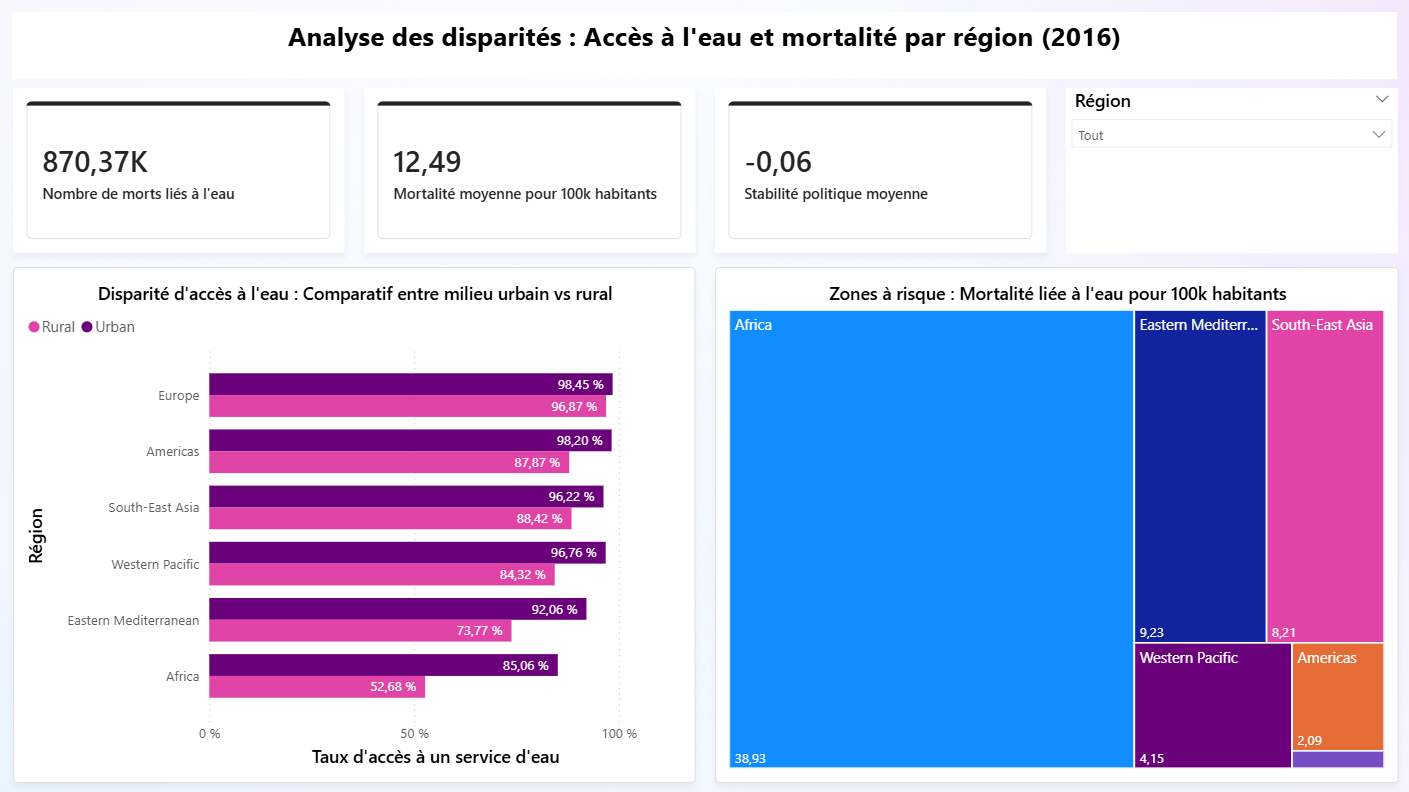

The dashboard page shown, as its layout file describes it:
{"tool":"powerbi","page":{"name":"Vue Régionale","canvas":[1280,720],"ordinal":1},"visuals":[{"type":"slicer","fields":{"Values":["DIM_Geography.REGION"]},"box":[967.1,80.9,301,149.9],"z":0},{"type":"clusteredBarChart","title":"Disparité d''accès à l''eau : Comparatif entre milieu urbain vs rural","fields":{"Category":["DIM_Geography.REGION"],"Y":["Avg(BasicAndSafelyManagedDrinkingWaterServices.Population using at least basic drinking-water services (%))"],"Series":["DIM_Granularity.Granularity"]},"box":[13.1,242.7,618.6,467.5],"z":1},{"type":"treemap","title":"Zones à risque : Mortalité liée à l''eau pour 100k habitants","fields":{"Values":["Avg(MortalityRateAttributedToWater.Mortality rate attributed to exposure to unsafe WASH services)"],"Group":["DIM_Geography.REGION"]},"box":[649.5,242.7,619.8,467.5],"z":2},{"type":"textbox","box":[11.9,11.9,1256.2,60.7],"z":3},{"type":"cardVisual","fields":{"Data":["Sum(MortalityRateAttributedToWater.WASH deaths)"]},"box":[13.1,80.9,301,149.9],"z":4},{"type":"cardVisual","fields":{"Data":["Avg(PoliticalStability.Political_Stability)"]},"box":[649.5,80.9,301,149.9],"z":5},{"type":"cardVisual","fields":{"Data":["Avg(MortalityRateAttributedToWater.Mortality rate attributed to exposure to unsafe WASH services)"]},"box":[330.7,80.9,301,149.9],"z":6}]}

Visuals, with their boxes in screenshot pixels (x1, y1, x2, y2), scaled from the page's 1280x720 canvas onto the 1409x792 screenshot:
slicer - DIM_Geography.REGION: Rect(1065, 89, 1396, 254)
"Disparité d''accès à l''eau : Comparatif entre milieu urbain vs rural" clusteredBarChart: Rect(14, 267, 695, 781)
"Zones à risque : Mortalité liée à l''eau pour 100k habitants" treemap: Rect(715, 267, 1397, 781)
textbox: Rect(13, 13, 1396, 80)
cardVisual - Sum(MortalityRateAttributedToWater.WASH deaths): Rect(14, 89, 346, 254)
cardVisual - Avg(PoliticalStability.Political_Stability): Rect(715, 89, 1046, 254)
cardVisual - Avg(MortalityRateAttributedToWater.Mortality rate attributed to exposure to unsafe WASH services): Rect(364, 89, 695, 254)
